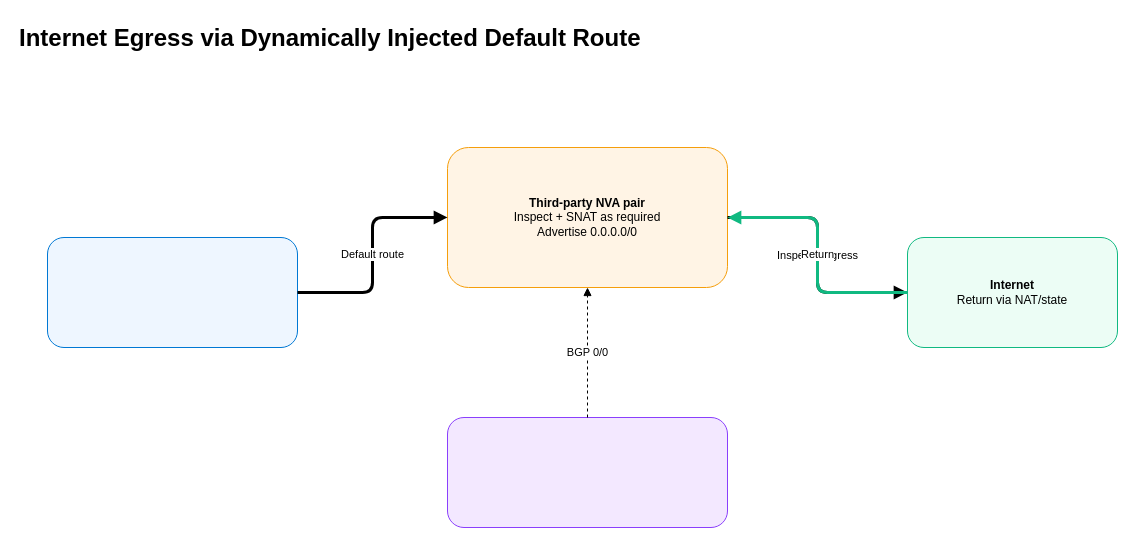
The diagram is 1135 pixels wide and 545 high, and some of its shapes have lost their labels. The centre of each missing label's shape, as x and y in pixels:
"Azure Route Server Injects default into spokes" goes at point (587, 472).
"Spoke workload 0.0.0.0/0 → NVA" goes at point (172, 292).
